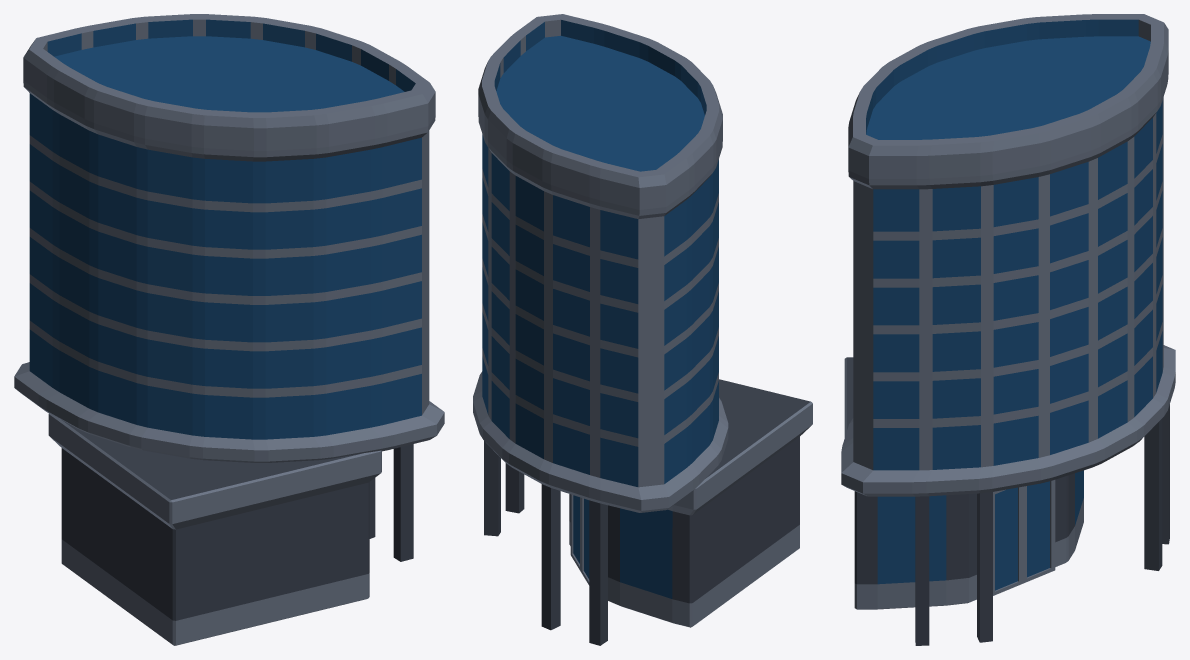
File: Predio2.fbx
3 views of the same model, side by side, from view 1: azimuth 30°, elevation 25°; view 2: azimuth 150°, elevation 25°; view 3: azimuth 270°, elevation 25° (orthographic). The views are drawn at different scales.
Parts seen in each view (by area): view 1: Cube, Cube.003; view 2: Cube, Cube.003, Cube.002; view 3: Cube, Cube.003, Cube.002.
Boxes of the visible parts, x1,y1,x2,y2 form: Cube: [14, 14, 444, 561]; Cube.003: [48, 413, 381, 645]; Cube: [473, 14, 728, 645]; Cube.003: [569, 379, 812, 627]; Cube.002: [570, 494, 589, 585]; Cube: [841, 14, 1175, 645]; Cube.003: [844, 357, 1083, 609]; Cube.002: [993, 480, 1055, 595].
Size of the model in its own units: 526 by 866 by 526.
